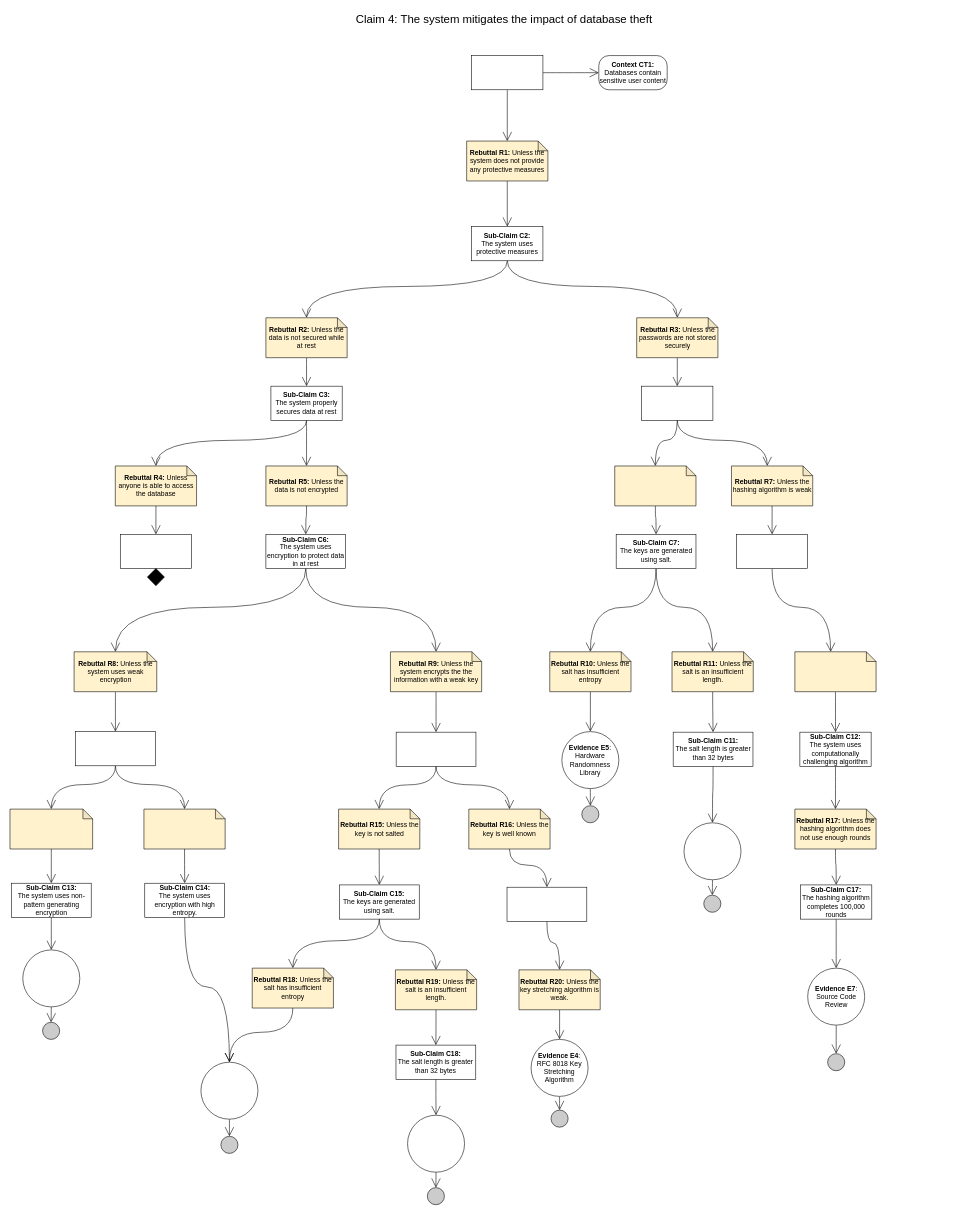
This 958x1215 diagram has some shape labels left out. The centre of each missing label's shape, as x and y in pixels:
Evidence E1 : AES CBC Mode: pixel 51 978
Evidence E2 : Hardware Randomness Library: pixel 229 1090
Evidence E3 : Source Code Review: pixel 436 1143
Evidence E6 : Source Code Review: pixel 712 851
Rebuttal R12: Unless the hashing algorithm is computationally easy: pixel 835 671
Rebuttal R13: Unless the system uses pattern generating encryption: pixel 51 829
Rebuttal R14: Unless system generated ciphertext has low entropy.: pixel 184 829
Rebuttal R6: Unless the passwords are not salted: pixel 655 485
Sub-Claim C10: The system uses strong key: pixel 436 749
Sub-Claim C16: The keys are generated using a key stretching algorithm: pixel 546 904
Sub-Claim C4: The system hashes password: pixel 677 403
Sub-Claim C5: The system ensures proper user authentication: pixel 156 551
Sub-Claim C8: The system uses a strong hashing algorithm: pixel 772 551
Sub-Claim C9: The system uses strong encryption: pixel 115 748
Top-Claim C1: The system mitigates the impact of database theft: pixel 507 72
